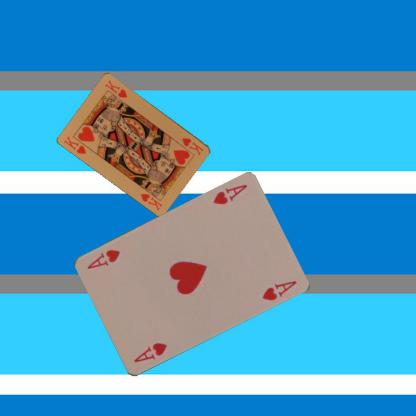Ah: (131, 340, 170, 364), (210, 182, 248, 206)
Kh: (61, 133, 87, 155), (180, 135, 205, 157)
